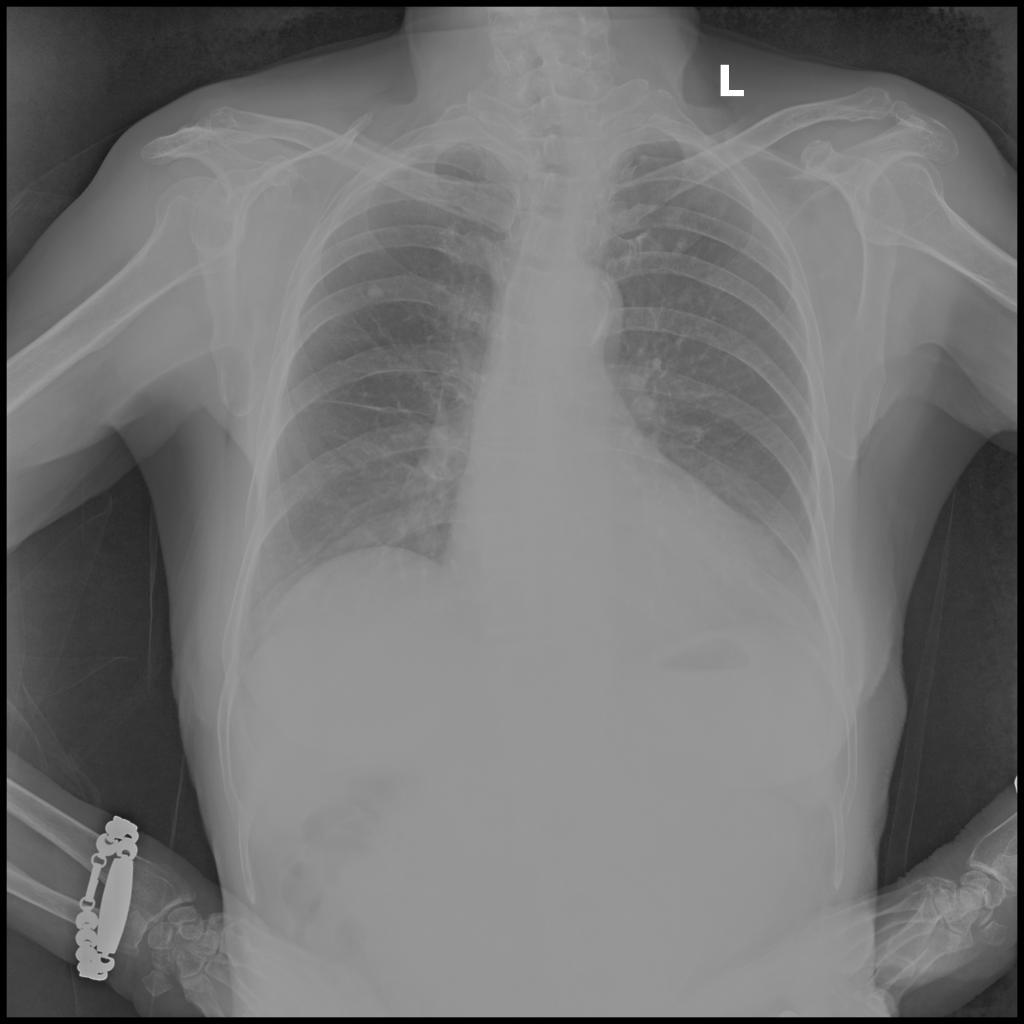Nodule: (367, 284, 386, 300)
